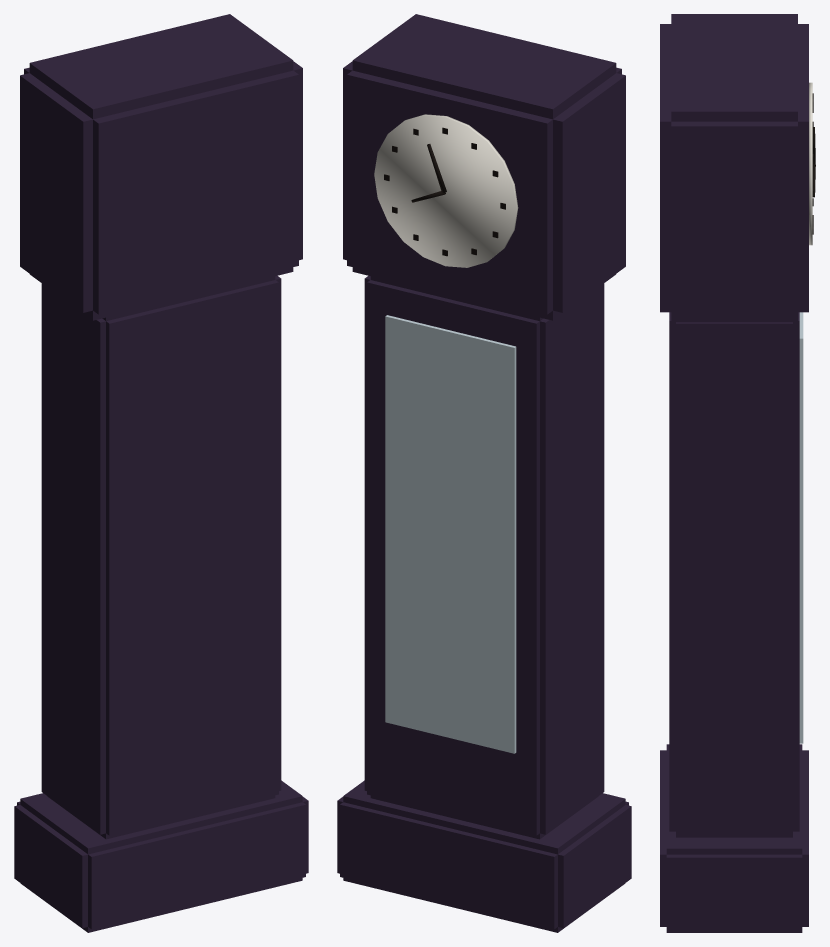
The model's file is obsidian_clock_v0.glb.
3 renders of one model, left to right at view 1: azimuth 30°, elevation 25°; view 2: azimuth 150°, elevation 25°; view 3: azimuth 270°, elevation 25°, orthographic.
Visible parts, largest first — view 1: obsidian_clock_v0; view 2: obsidian_clock_v0; view 3: obsidian_clock_v0.
Part boxes in pixels (bbox=[...]): obsidian_clock_v0: bbox=[14, 14, 308, 932]; obsidian_clock_v0: bbox=[337, 14, 631, 932]; obsidian_clock_v0: bbox=[660, 14, 815, 932].
Bounding box in the file's own units: 0.7 × 2.42 × 0.4185.
